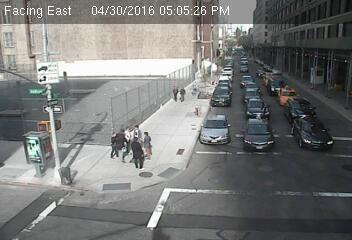neg: (14, 132, 34, 159), (4, 75, 22, 98), (41, 119, 58, 142), (35, 59, 51, 80), (21, 45, 36, 66), (25, 86, 40, 106), (65, 34, 80, 54), (187, 105, 201, 123), (198, 84, 210, 101), (56, 68, 68, 84), (218, 41, 229, 56)
pos: (126, 136, 151, 168), (138, 129, 160, 158), (103, 132, 123, 159), (180, 85, 192, 102), (171, 86, 183, 102)
